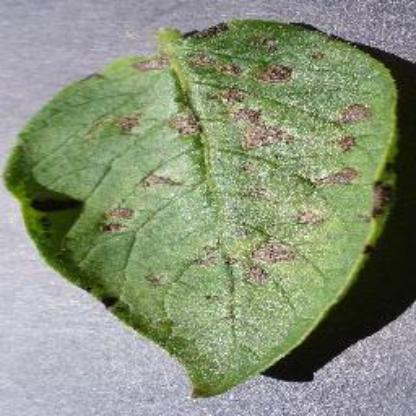Early-Blight: (6, 19, 406, 397)
